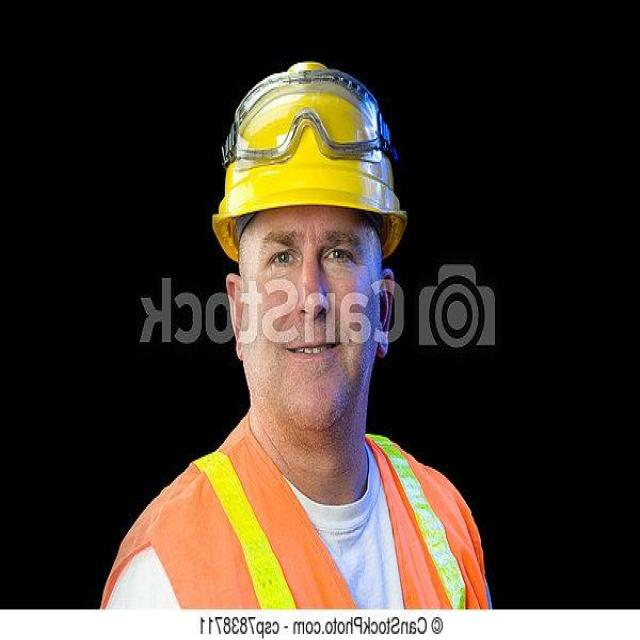Reflective-Jacket: (106, 416, 490, 612)
Safety-Helmet: (210, 58, 412, 257)
